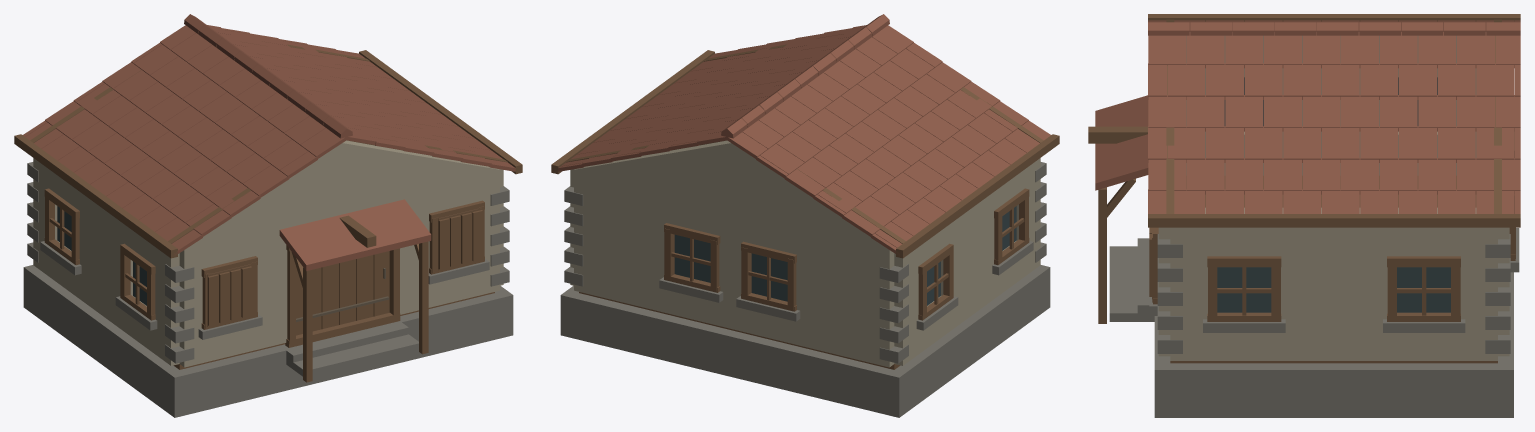
Rendered from quay_workshop.glb.
The picture shows the model from 3 angles, left to right: view 1: azimuth 30°, elevation 25°; view 2: azimuth 150°, elevation 25°; view 3: azimuth 270°, elevation 25°; orthographic projection. The views are drawn at different scales.
Parts seen in each view (by area): view 1: quay_workshop_Keeper terracotta tile, quay_workshop_Keeper lime plaster, quay_workshop_Keeper sandstone foundations, quay_workshop_Keeper weathered oak, quay_workshop_Keeper window glass; view 2: quay_workshop_Keeper terracotta tile, quay_workshop_Keeper lime plaster, quay_workshop_Keeper sandstone foundations, quay_workshop_Keeper weathered oak, quay_workshop_Keeper window glass; view 3: quay_workshop_Keeper terracotta tile, quay_workshop_Keeper lime plaster, quay_workshop_Keeper sandstone foundations, quay_workshop_Keeper weathered oak, quay_workshop_Keeper window glass.
Part boxes in pixels (x1,y1,x2,y2): quay_workshop_Keeper terracotta tile: [23, 14, 515, 270]; quay_workshop_Keeper lime plaster: [33, 140, 503, 367]; quay_workshop_Keeper sandstone foundations: [23, 162, 513, 417]; quay_workshop_Keeper weathered oak: [14, 44, 522, 382]; quay_workshop_Keeper window glass: [57, 206, 146, 305]; quay_workshop_Keeper terracotta tile: [555, 14, 1050, 256]; quay_workshop_Keeper lime plaster: [570, 140, 1040, 367]; quay_workshop_Keeper sandstone foundations: [560, 162, 1050, 417]; quay_workshop_Keeper weathered oak: [551, 44, 1059, 369]; quay_workshop_Keeper window glass: [674, 206, 1016, 305]; quay_workshop_Keeper terracotta tile: [1095, 20, 1520, 213]; quay_workshop_Keeper lime plaster: [1158, 35, 1509, 360]; quay_workshop_Keeper sandstone foundations: [1109, 228, 1519, 417]; quay_workshop_Keeper weathered oak: [1088, 14, 1520, 363]; quay_workshop_Keeper window glass: [1217, 77, 1450, 312].
Size of the model in its own units: 9.14 by 6.21 by 8.18.
